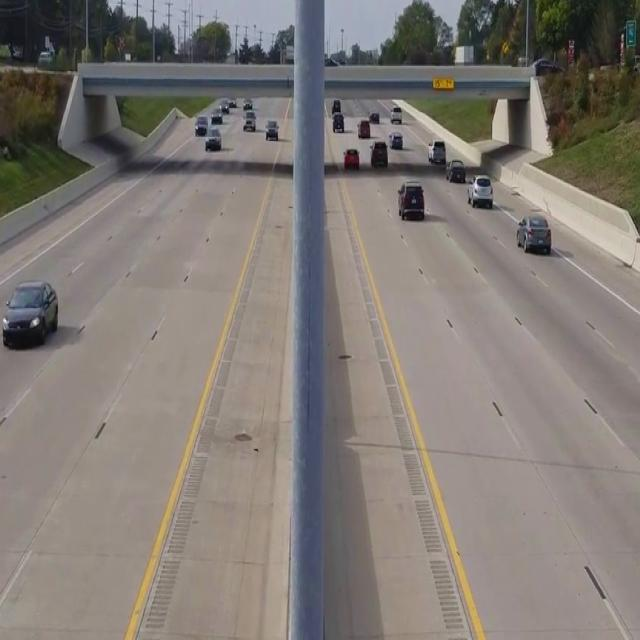car: (1, 280, 58, 346), (516, 212, 551, 253), (397, 182, 424, 218), (468, 173, 492, 208)
